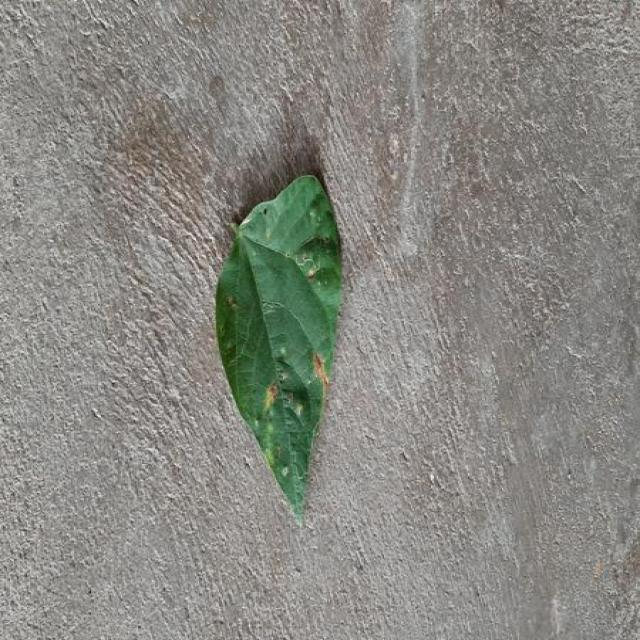beans: (217, 175, 342, 522)
defectedbeans: (222, 301, 330, 516)
